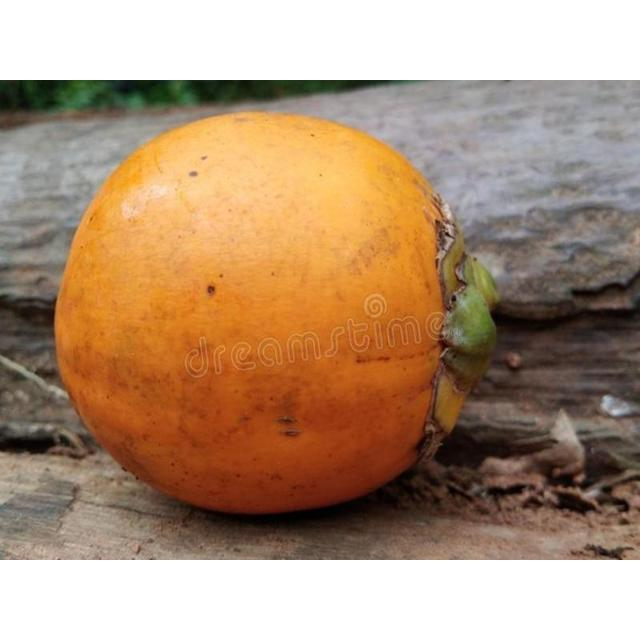good: (54, 111, 498, 518)
